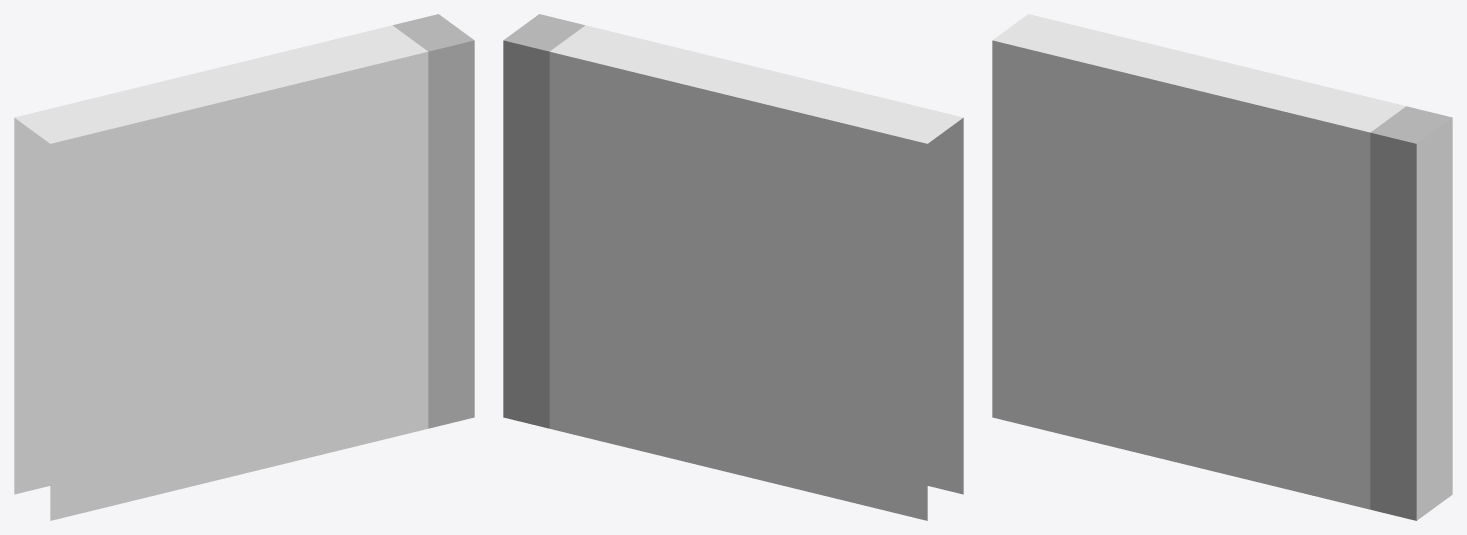
The model's file is SM_Shower_02.fbx.
3 renders of one model, left to right at view 1: azimuth 30°, elevation 25°; view 2: azimuth 150°, elevation 25°; view 3: azimuth 330°, elevation 25°, orthographic.
Visible parts, largest first — view 1: SM_Shower_02; view 2: SM_Shower_02; view 3: SM_Shower_02.
Boxes of the visible parts, x1=… form: SM_Shower_02: x1=14, y1=14, x2=474, y2=520; SM_Shower_02: x1=503, y1=14, x2=963, y2=520; SM_Shower_02: x1=992, y1=14, x2=1452, y2=520.
Bounding box in the file's own units: 213 × 181 × 31.31.
1 material, 1 textured.
